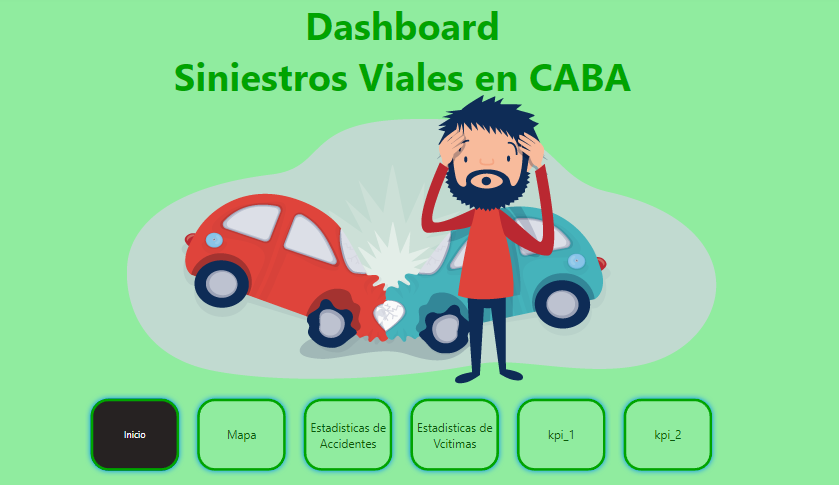

This screenshot's page, from the dashboard's own definition file:
{"tool":"powerbi","page":{"name":"Inicio","canvas":[1280,720],"ordinal":0},"visuals":[{"type":"textbox","box":[32.2,0,1213.2,169.8],"z":0},{"type":"pageNavigator","box":[174.1,581,929.3,122.9],"z":1000}]}

Visuals, with their boxes in screenshot pixels (x1, y1, x2, y2), scaled from the page's 1280x720 canvas onto the 839x485 screenshot:
textbox: l=21, t=0, r=816, b=114
pageNavigator: l=114, t=391, r=723, b=474
